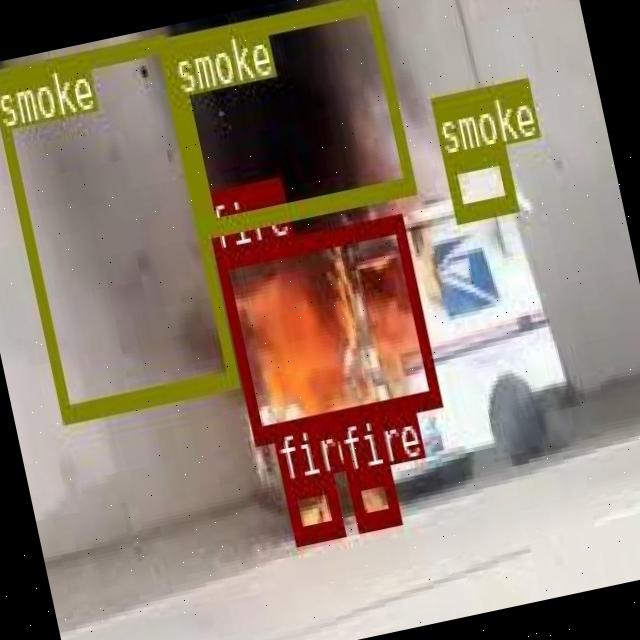fire: (212, 210, 440, 442), (283, 473, 343, 543), (345, 462, 399, 527)
smoke: (0, 34, 237, 419), (164, 0, 414, 235), (440, 143, 516, 219)
